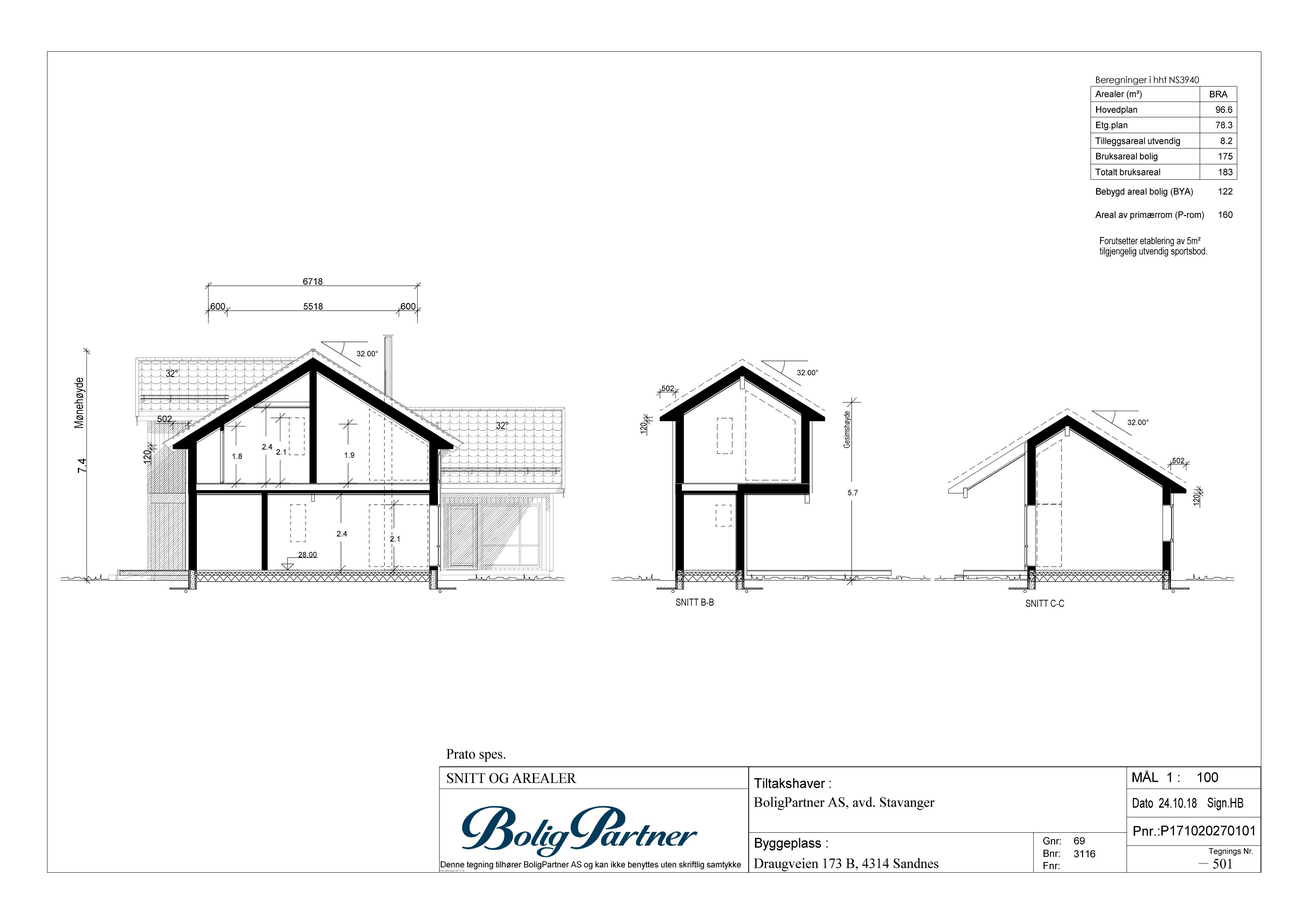snitt: (107, 333, 568, 595), (655, 358, 893, 593), (947, 407, 1191, 594)
